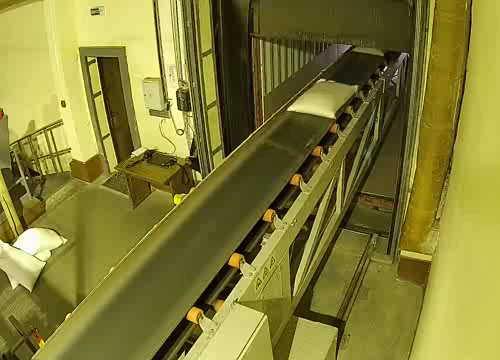bag: (285, 76, 365, 123), (350, 44, 388, 58)
